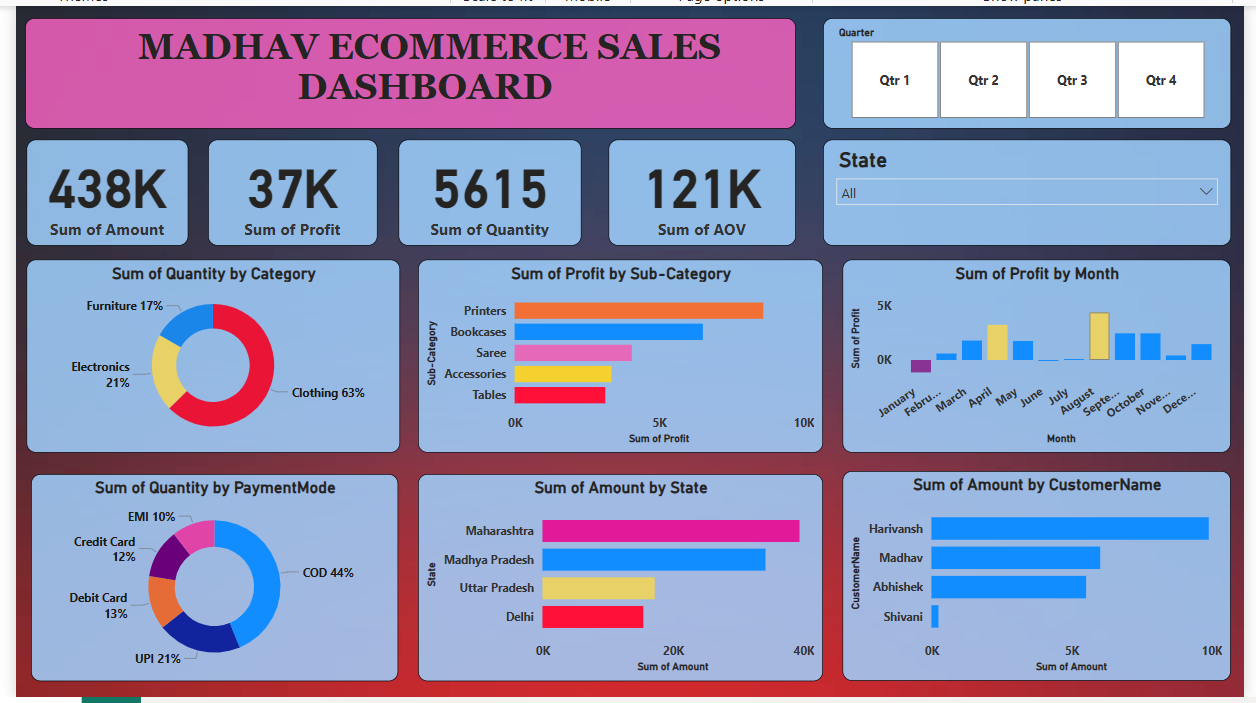

This screenshot's page, from the dashboard's own definition file:
{"tool":"powerbi","page":{"name":"Page 1","canvas":[1280,720],"ordinal":0},"visuals":[{"type":"textbox","box":[9.4,12.5,803.4,115.7],"z":0},{"type":"columnChart","fields":{"Y":["Details.Profit"],"Category":["Orders.Order Date.Variation.Date Hierarchy.Month"]},"box":[861.2,264.1,404.8,201.6],"z":1000},{"type":"barChart","fields":{"Category":["Details.Sub-Category"],"Y":["Details.Profit"]},"box":[418.9,264.1,422,201.6],"z":2000},{"type":"donutChart","fields":{"Category":["Details.Category"],"Y":["Details.Quantity"]},"box":[10.9,264.1,389.2,201.6],"z":3000},{"type":"donutChart","fields":{"Y":["Details.Quantity"],"Category":["Details.PaymentMode"]},"box":[15.6,487.7,382.9,215.7],"z":4000},{"type":"card","fields":{"Values":["Details.Amount"]},"box":[10.9,139.1,168.8,111],"z":5000},{"type":"card","fields":{"Values":["Details.Profit"]},"box":[200.1,139.1,176.6,111],"z":6000},{"type":"card","fields":{"Values":["Details.Quantity"]},"box":[398.6,139.1,190.7,111],"z":7000},{"type":"card","fields":{"Values":["Details.AOV"]},"box":[617.4,139.1,195.4,111],"z":8000},{"type":"barChart","fields":{"Category":["Orders.State"],"Y":["Details.Amount"]},"box":[418.9,487.7,422,215.7],"z":9000},{"type":"barChart","fields":{"Category":["Orders.CustomerName"],"Y":["Details.Amount"]},"box":[861.2,484.5,404.8,218.8],"z":10000},{"type":"slicer","fields":{"Values":["Orders.Order Date.Variation.Date Hierarchy.Quarter"]},"box":[840.9,12.5,425.1,115.7],"z":11000},{"type":"slicer","fields":{"Values":["Orders.State"]},"box":[840.9,139.1,425.1,111],"z":12000}]}

Visuals, with their boxes in screenshot pixels (x1, y1, x2, y2):
textbox: (x1=19, y1=12, x2=793, y2=123)
columnChart - Details.Profit x Orders.Order Date.Variation.Date Hierarchy.Month: (x1=839, y1=254, x2=1229, y2=449)
barChart - Details.Sub-Category x Details.Profit: (x1=413, y1=254, x2=820, y2=449)
donutChart - Details.Category x Details.Quantity: (x1=20, y1=254, x2=395, y2=449)
donutChart - Details.Quantity x Details.PaymentMode: (x1=25, y1=470, x2=394, y2=678)
card - Details.Amount: (x1=20, y1=134, x2=183, y2=241)
card - Details.Profit: (x1=203, y1=134, x2=373, y2=241)
card - Details.Quantity: (x1=394, y1=134, x2=577, y2=241)
card - Details.AOV: (x1=604, y1=134, x2=793, y2=241)
barChart - Orders.State x Details.Amount: (x1=413, y1=470, x2=820, y2=678)
barChart - Orders.CustomerName x Details.Amount: (x1=839, y1=467, x2=1229, y2=677)
slicer - Orders.Order Date.Variation.Date Hierarchy.Quarter: (x1=820, y1=12, x2=1229, y2=123)
slicer - Orders.State: (x1=820, y1=134, x2=1229, y2=241)
